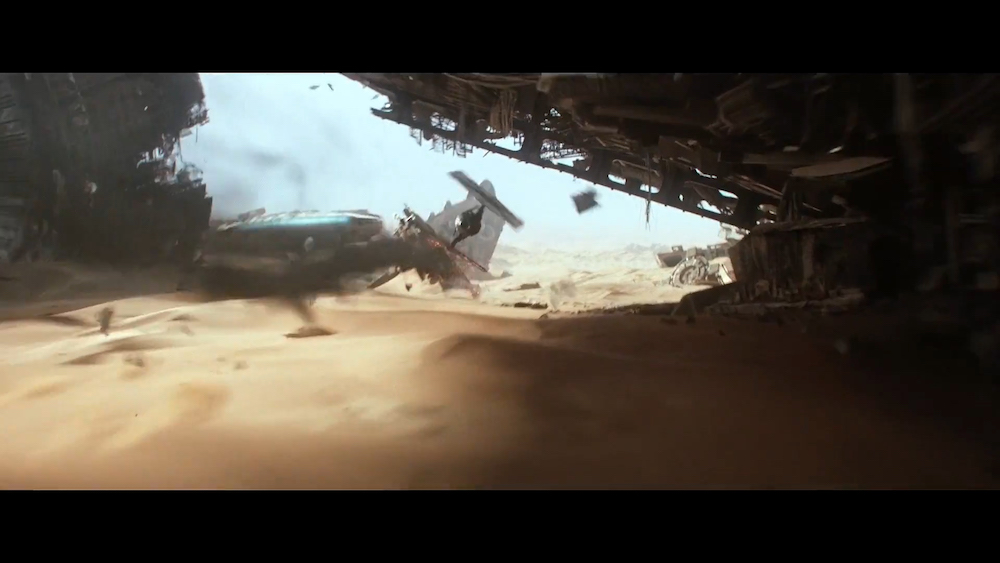Millennium Falcon: (216, 208, 383, 250)
Tie Fighter: (404, 172, 525, 274)
